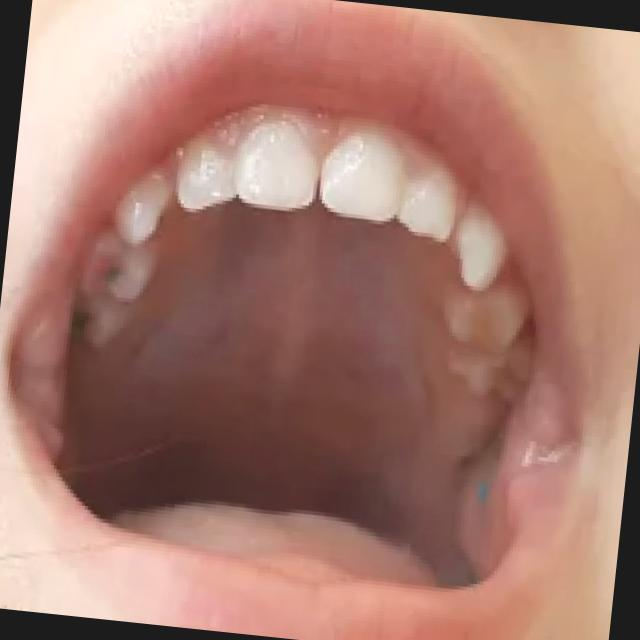No Cancer: (104, 147, 556, 519)
